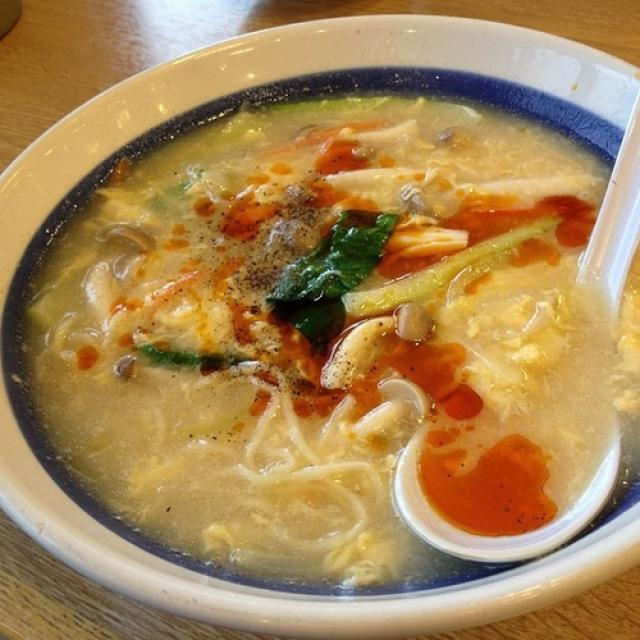面条主食: (4, 72, 626, 599)
